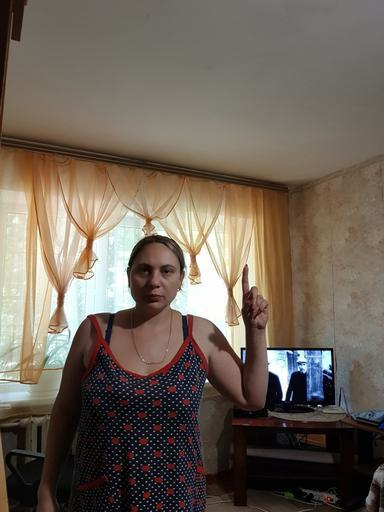one: (239, 263, 272, 332)
